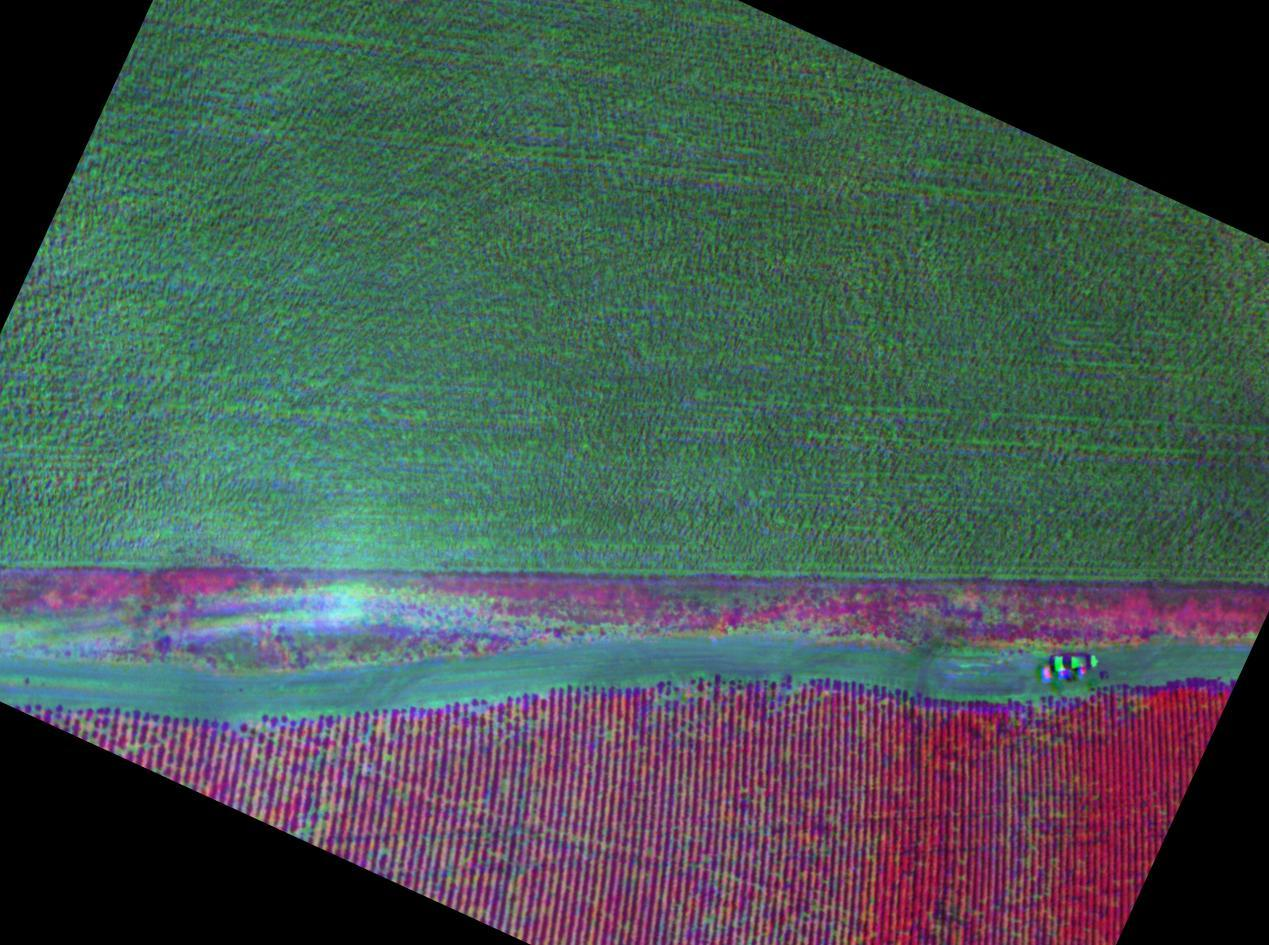dc: (1006, 764, 1060, 830), (736, 790, 794, 851), (228, 713, 301, 761), (701, 861, 757, 920), (293, 784, 349, 841), (346, 714, 395, 760), (656, 674, 705, 715)
